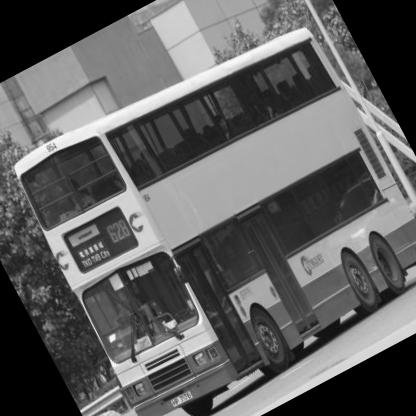bus: (1, 1, 416, 416)
